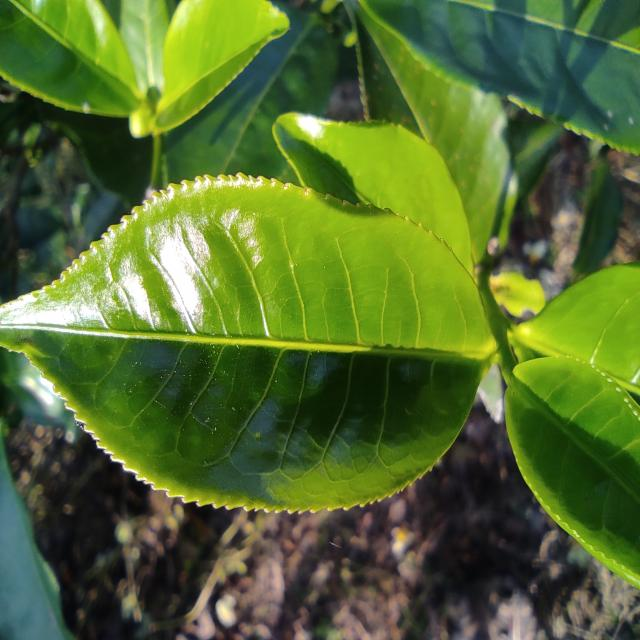Category B(2-4 days): (1, 152, 515, 534)
